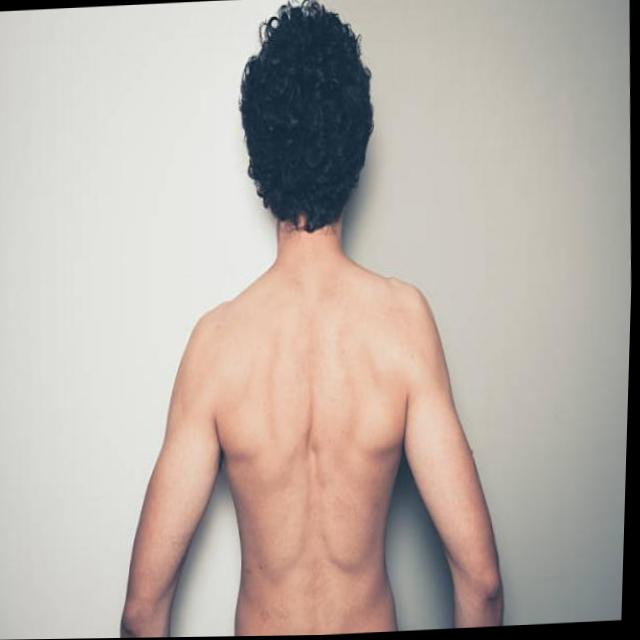no helmet: (233, 0, 382, 251)
